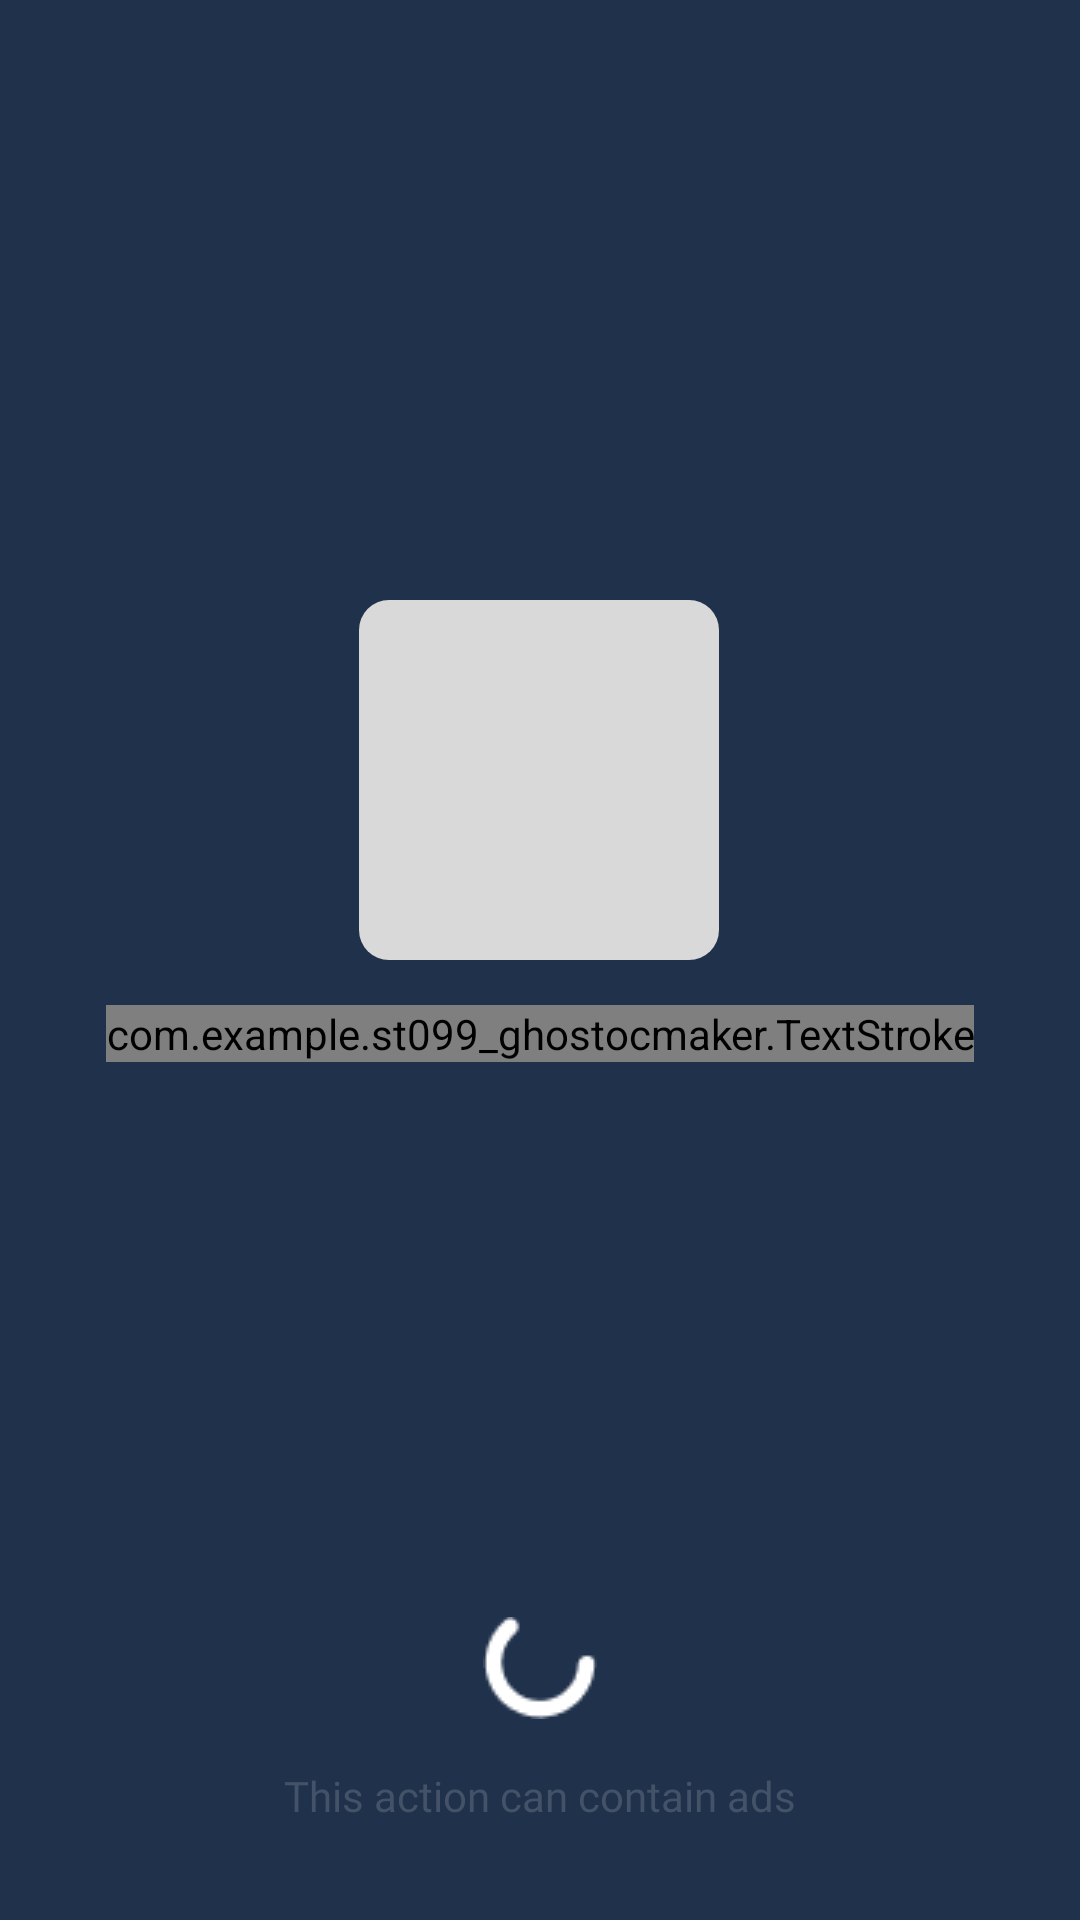

Where icons sit on this 1080 × 1920 app screen, as (left=x1, top=y1, right=x2, bottom=y2):
load: (left=483, top=1617, right=597, bottom=1719)
